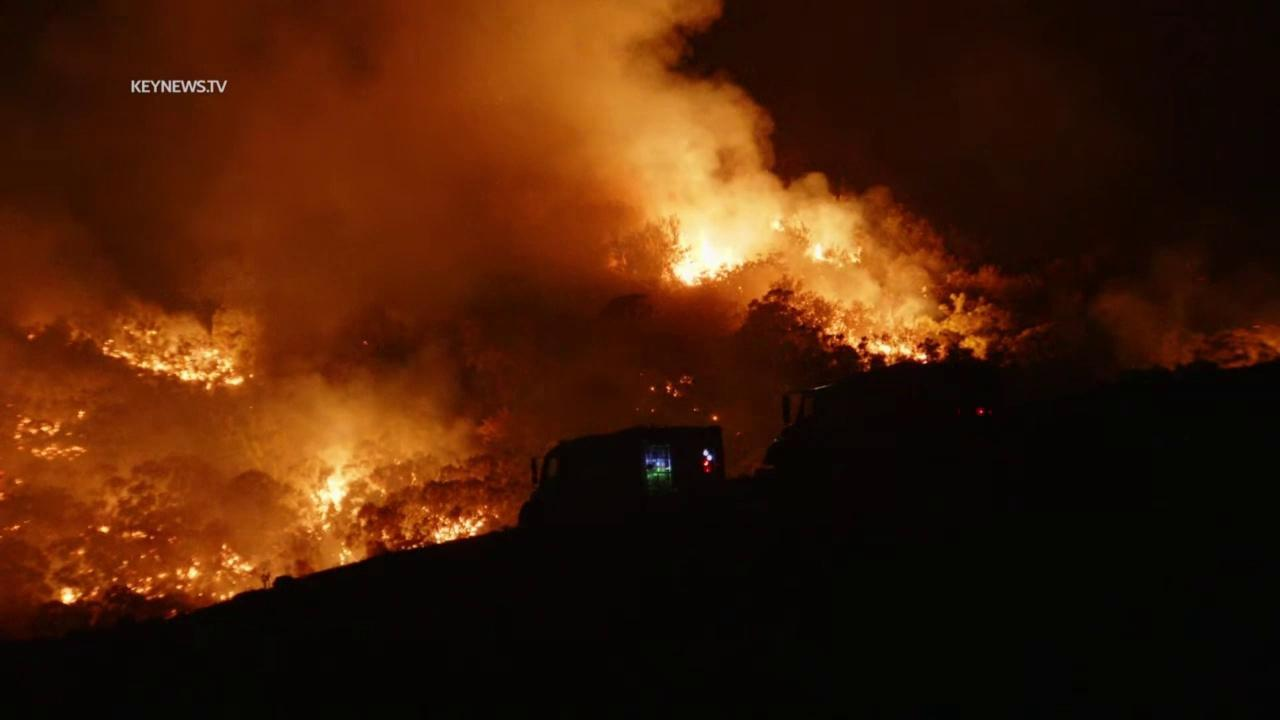fire: (56, 516, 255, 610), (281, 462, 391, 569), (99, 322, 255, 395), (667, 223, 746, 288), (11, 408, 95, 466), (824, 321, 931, 362), (431, 502, 501, 550), (809, 240, 831, 265), (664, 380, 683, 399), (680, 373, 694, 385), (25, 333, 39, 341), (710, 415, 720, 421), (648, 385, 656, 392), (650, 407, 656, 413)
smoke: (0, 0, 1280, 657)
